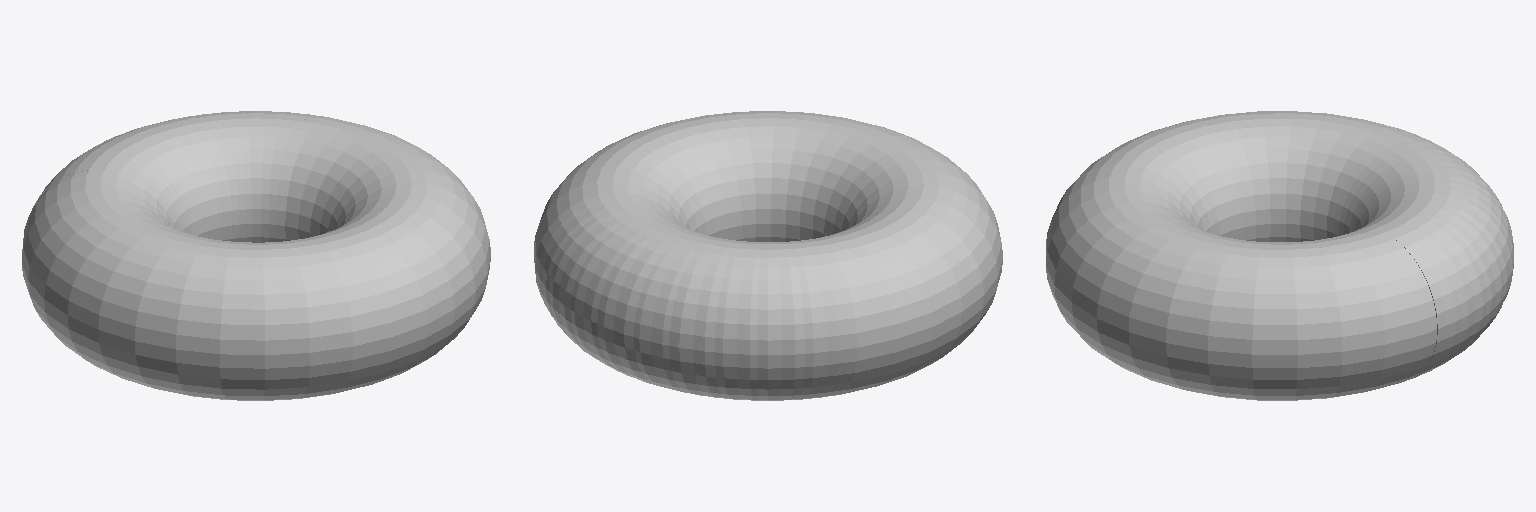
File: dona6.obj
3 renders of one model, left to right at view 1: azimuth 30°, elevation 25°; view 2: azimuth 150°, elevation 25°; view 3: azimuth 270°, elevation 25°, orthographic.
Visible parts, largest first — view 1: dona6:Mesh; view 2: dona6:Mesh; view 3: dona6:Mesh.
Part boxes in pixels (x1,y1,x2,y2): dona6:Mesh: (22, 111, 490, 400); dona6:Mesh: (534, 111, 1002, 400); dona6:Mesh: (1046, 111, 1513, 400).
Size of the model in its own units: 1.25 by 0.4245 by 1.25.